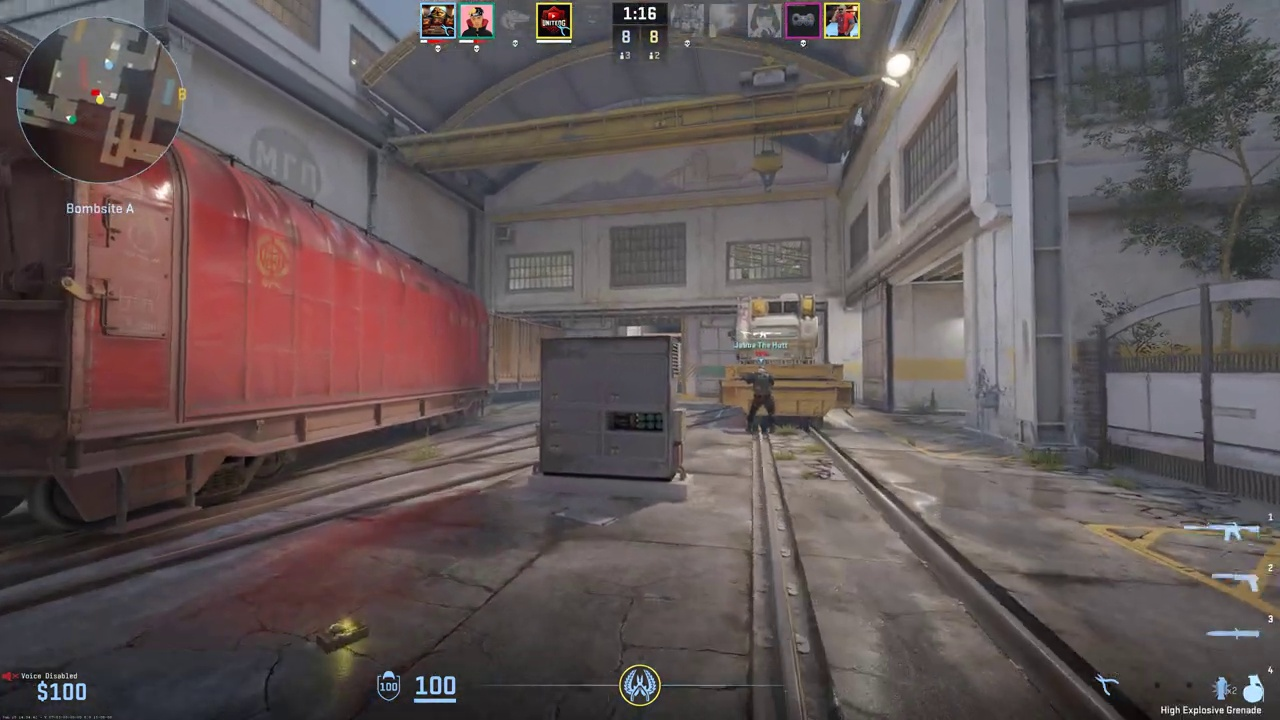CT: (749, 366, 774, 434)
